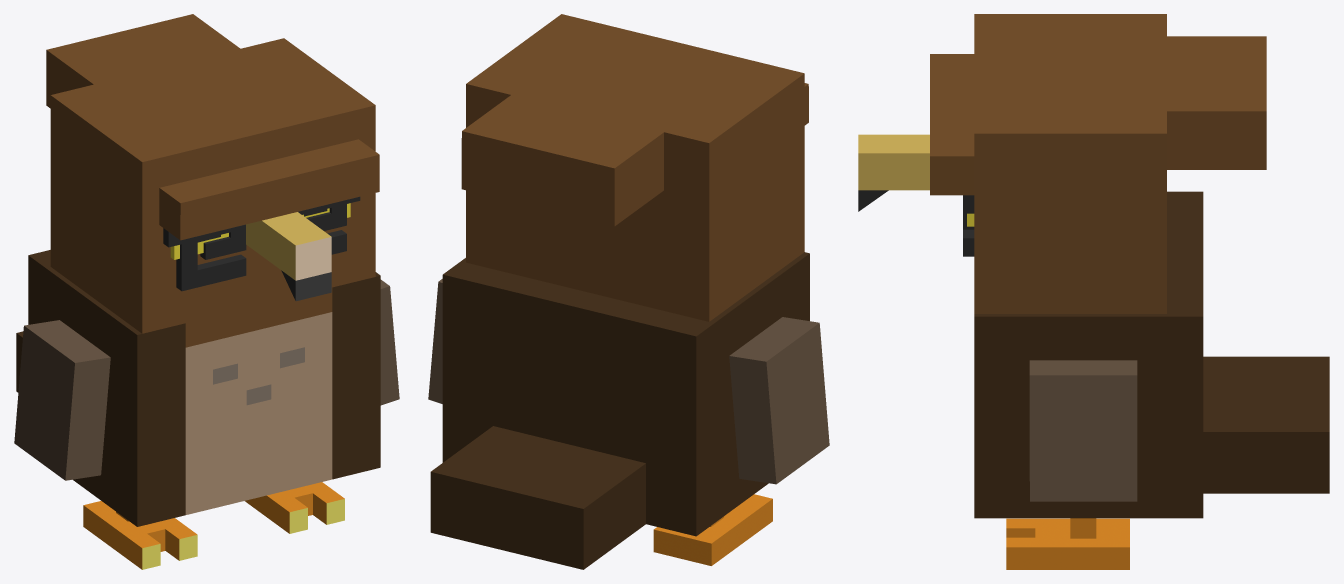
3 renders of one model, left to right at view 1: azimuth 30°, elevation 25°; view 2: azimuth 150°, elevation 25°; view 3: azimuth 270°, elevation 25°, orthographic. The views are drawn at different scales.
Parts seen in each view (by area): view 1: Ch_21_Head, Ch_21, Ch_21_Wing_L, Ch_21_Leg_L, Ch_21_Leg_R, Ch_21_Eye_03_L, Ch_21_Wing_R, Ch_21_Eye_03_R, Ch_21_Eye_02, Ch_21_Eye_01; view 2: Ch_21_Head, Ch_21, Ch_21_Wing_L, Ch_21_Leg_L, Ch_21_Wing_R; view 3: Ch_21_Head, Ch_21, Ch_21_Wing_R, Ch_21_Leg_R.
Part boxes in pixels (<box>): Ch_21_Head: <box>46,14,379,333</box>; Ch_21: <box>16,250,380,526</box>; Ch_21_Wing_L: <box>14,320,110,480</box>; Ch_21_Leg_L: <box>83,501,197,569</box>; Ch_21_Leg_R: <box>245,482,344,533</box>; Ch_21_Eye_03_L: <box>176,225,246,291</box>; Ch_21_Wing_R: <box>380,279,399,405</box>; Ch_21_Eye_03_R: <box>306,200,346,254</box>; Ch_21_Eye_02: <box>163,196,360,247</box>; Ch_21_Eye_01: <box>170,203,350,259</box>; Ch_21_Head: <box>461,14,808,321</box>; Ch_21: <box>430,252,809,569</box>; Ch_21_Wing_L: <box>729,317,829,484</box>; Ch_21_Leg_L: <box>653,494,772,565</box>; Ch_21_Wing_R: <box>428,279,442,403</box>; Ch_21_Head: <box>858,14,1266,313</box>; Ch_21: <box>974,191,1329,518</box>; Ch_21_Wing_R: <box>1029,360,1137,501</box>; Ch_21_Leg_R: <box>1006,518,1129,569</box>.
Bounding box in the file's own units: 8.64 × 10.43 × 10.03.
